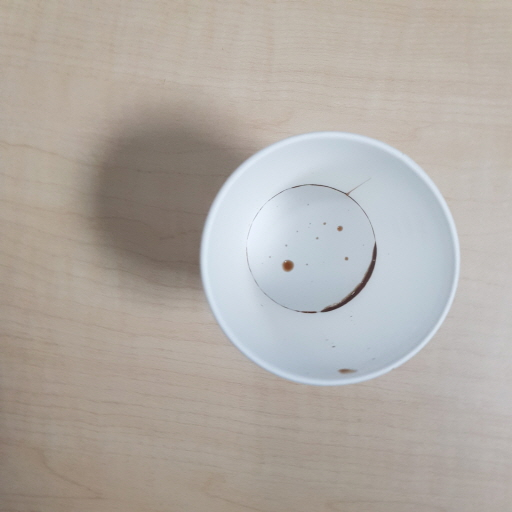Paper_1: (201, 129, 462, 386)
